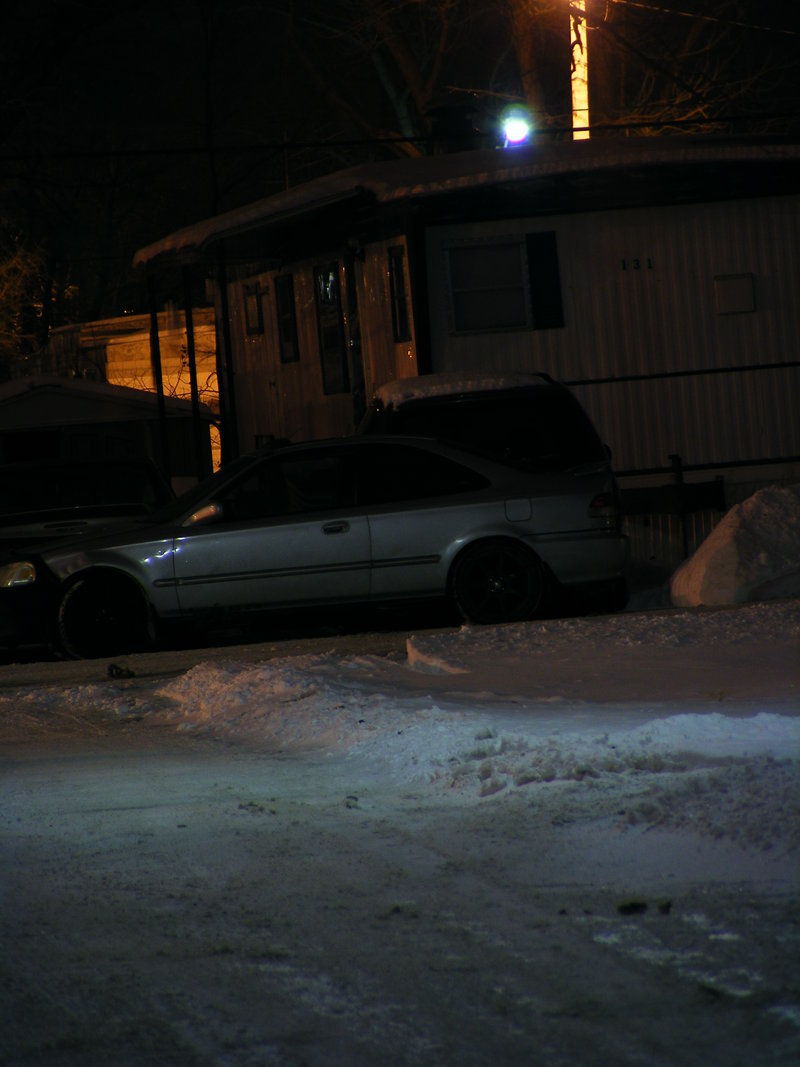car: (11, 366, 645, 670)
